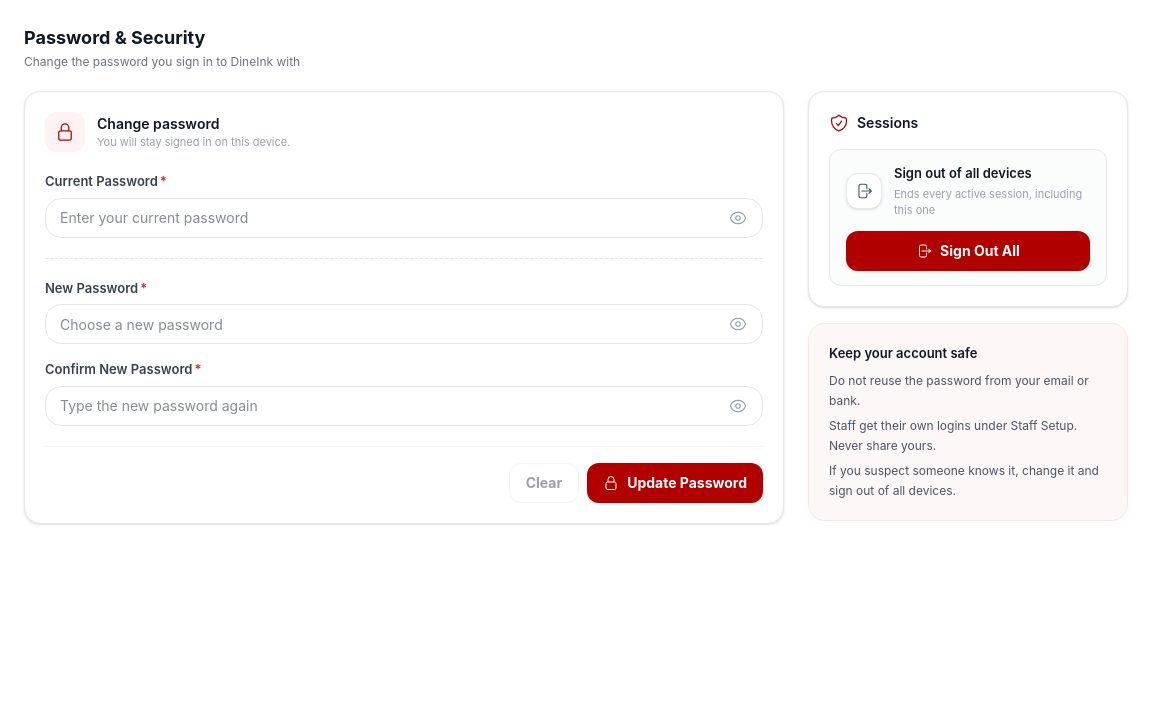
PasswordTab › names each empty field inline instead of sending the request
Click the button "Update Password" at (675, 482), box x1=587 y1=462 x2=763 y2=502
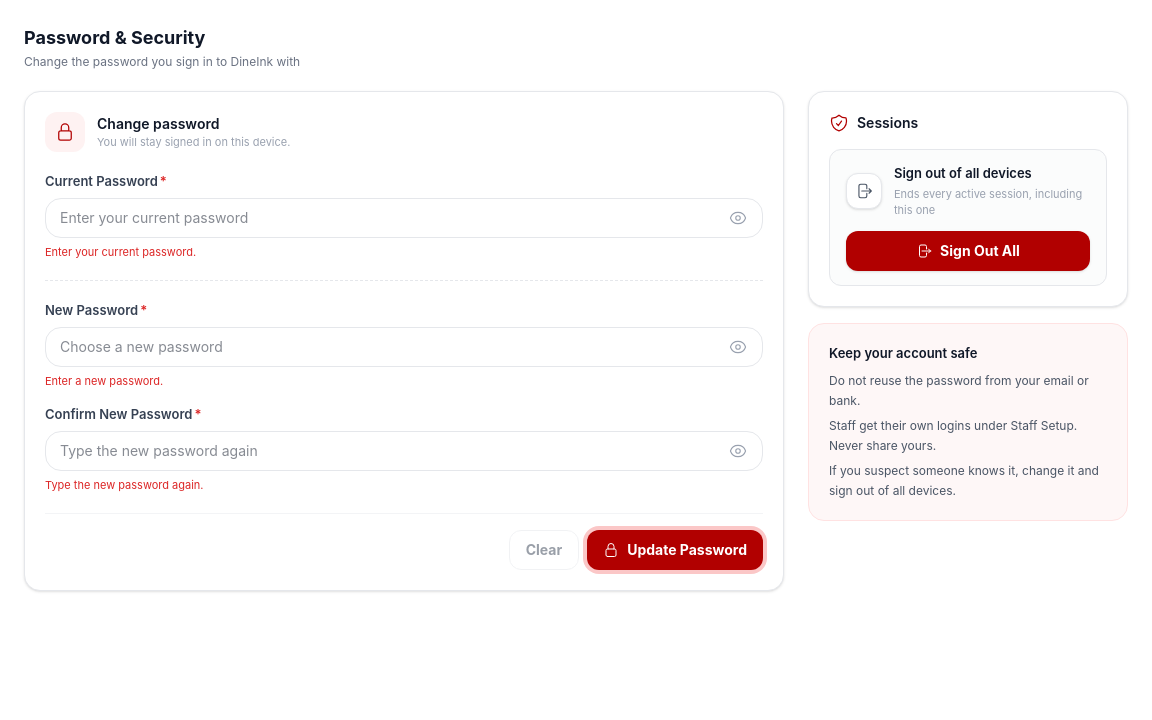
Expected: the text "Enter your current password." is shown, x1=45 y1=244 x2=196 y2=258
Expected: the text "Enter a new password." is shown, x1=45 y1=374 x2=163 y2=388
Expected: the text "Type the new password again." is shown, x1=45 y1=478 x2=204 y2=492
